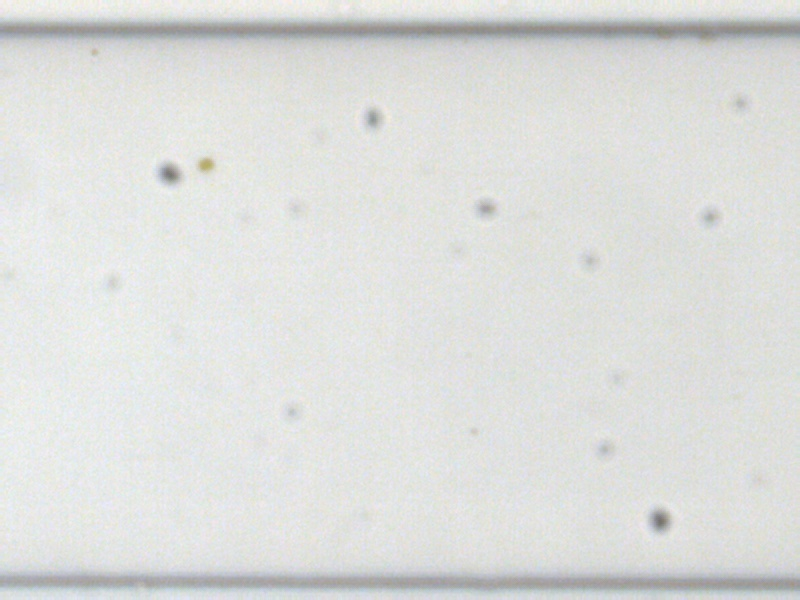Chlorella: (197, 158, 211, 170), (470, 424, 479, 434), (90, 46, 98, 54)
